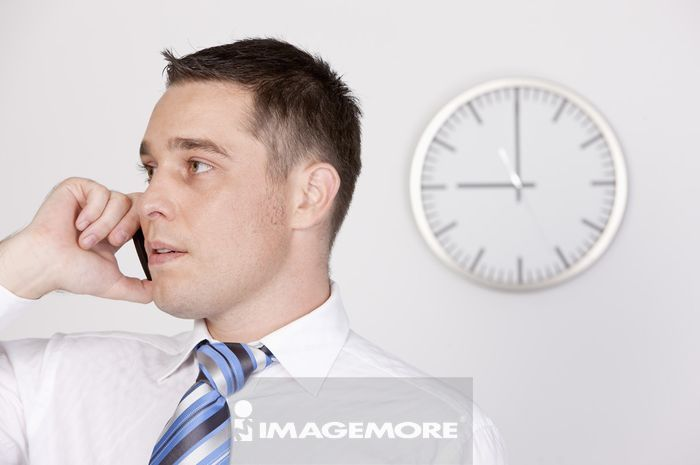talk: (23, 121, 261, 327)
